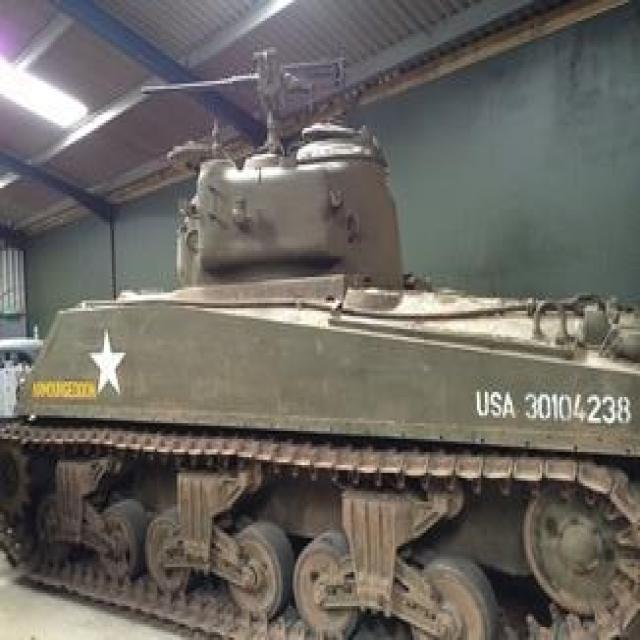Tanks: (30, 103, 622, 600)
